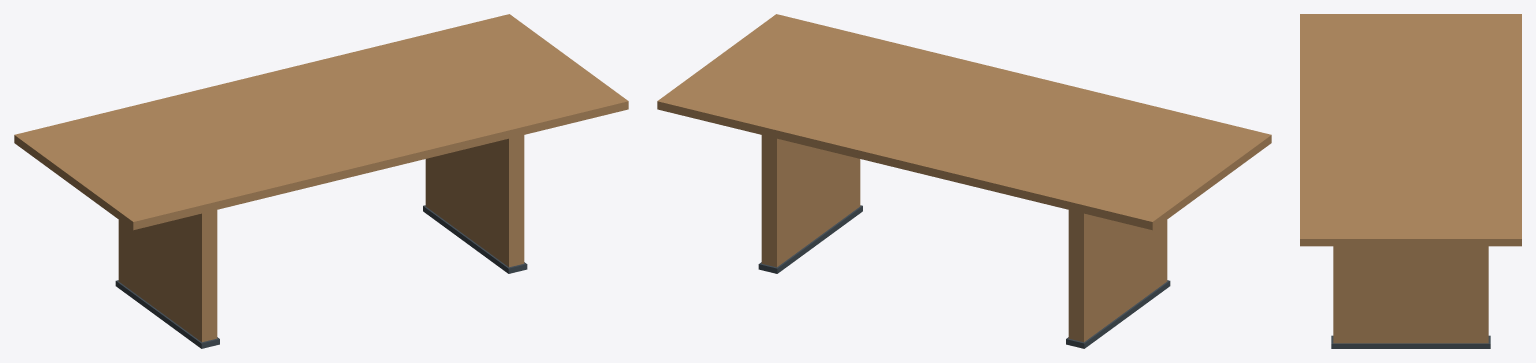
Rendered from meetingTable-6.glb.
The picture shows the model from 3 angles, left to right: view 1: azimuth 30°, elevation 25°; view 2: azimuth 150°, elevation 25°; view 3: azimuth 270°, elevation 25°; orthographic projection. The views are drawn at different scales.
Parts seen in each view (by area): view 1: meetingTable:6:editor; view 2: meetingTable:6:editor; view 3: meetingTable:6:editor.
Part boxes in pixels (left/top/right/bottom): meetingTable:6:editor: left=14, top=14, right=628, bottom=348; meetingTable:6:editor: left=657, top=14, right=1271, bottom=348; meetingTable:6:editor: left=1300, top=14, right=1521, bottom=348.
Bounding box in the file's own units: 2.4 × 0.74 × 1.
